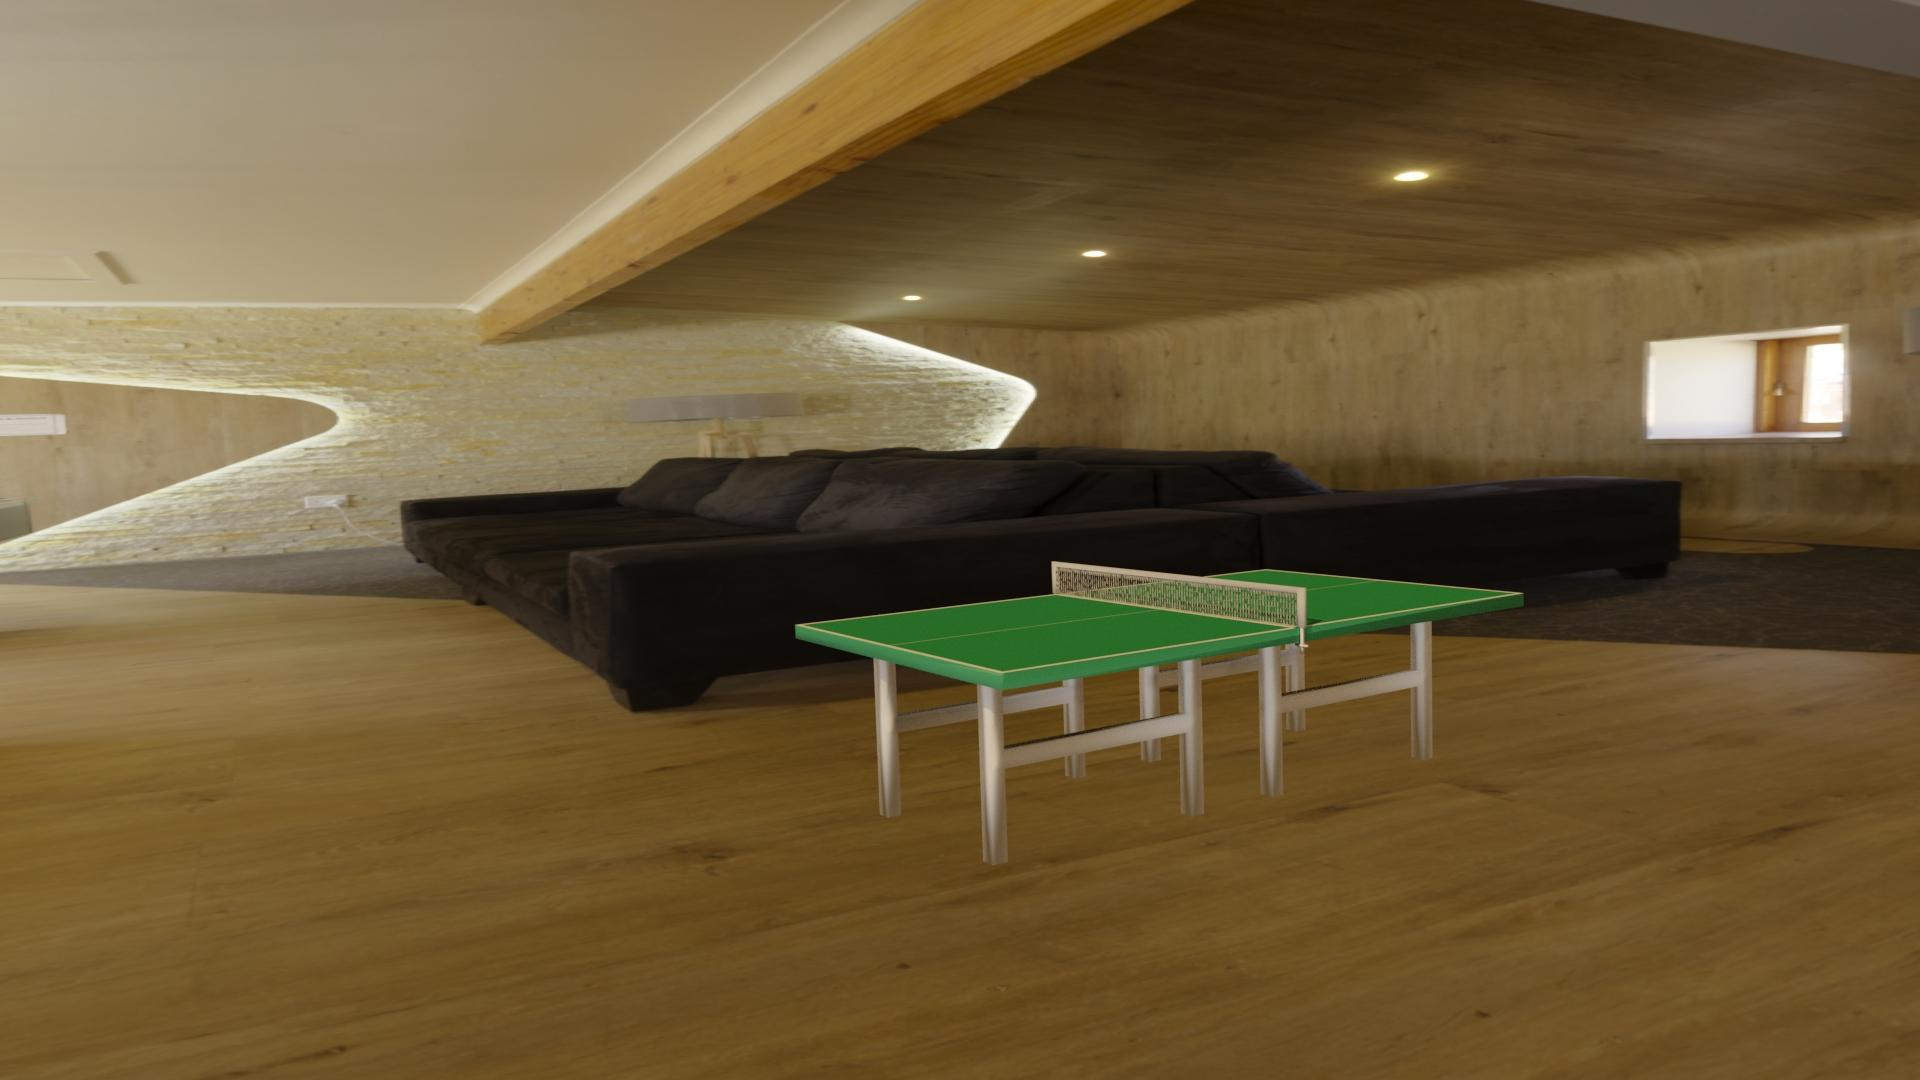table: (802, 570, 1516, 671)
